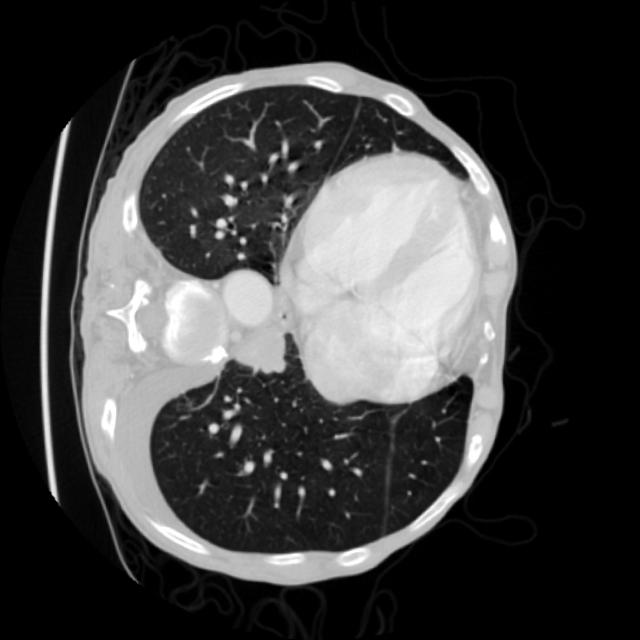nodule: (209, 298, 319, 408)
